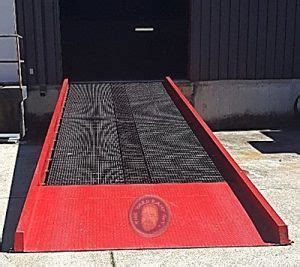Yard Ramp: (11, 76, 293, 251)
